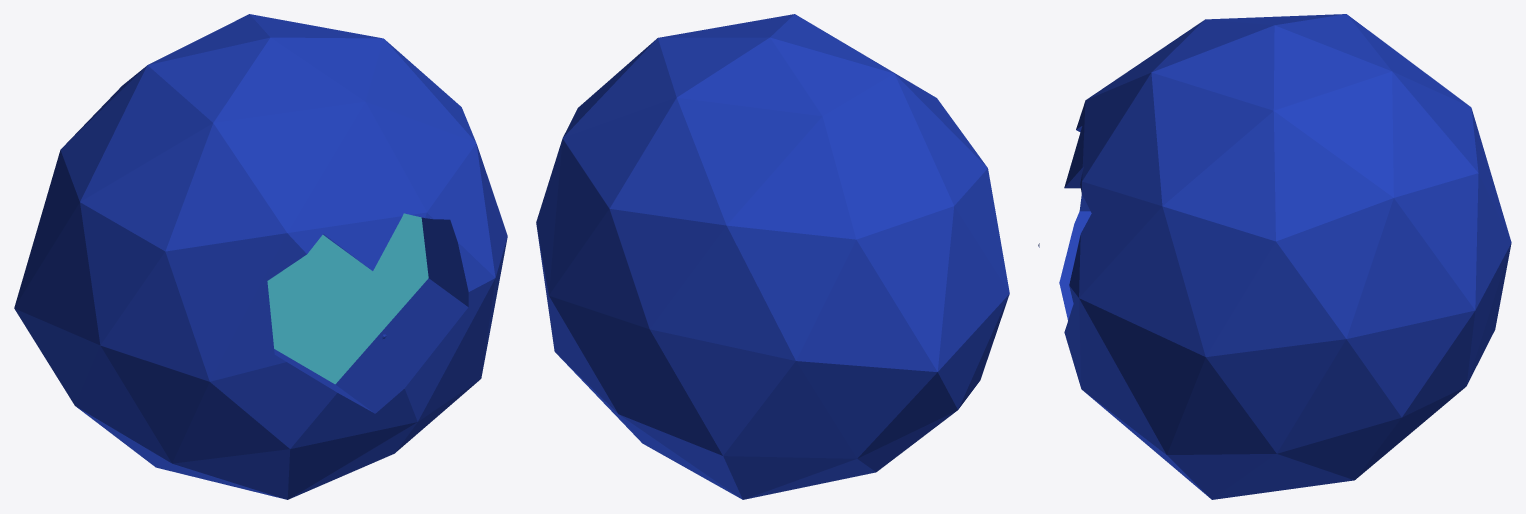
File: PlanetLove.fbx
3 views of the same model, side by side, from view 1: azimuth 30°, elevation 25°; view 2: azimuth 150°, elevation 25°; view 3: azimuth 270°, elevation 25° (orthographic). The views are drawn at different scales.
Visible parts, largest first — view 1: PlanetBody2.001; view 2: PlanetBody2.001; view 3: PlanetBody2.001.
Boxes of the visible parts, bbox=[...] form: PlanetBody2.001: bbox=[14, 14, 507, 499]; PlanetBody2.001: bbox=[536, 14, 1009, 499]; PlanetBody2.001: bbox=[1038, 14, 1511, 499].
Bounding box in the file's own units: 266 × 263 × 256.
